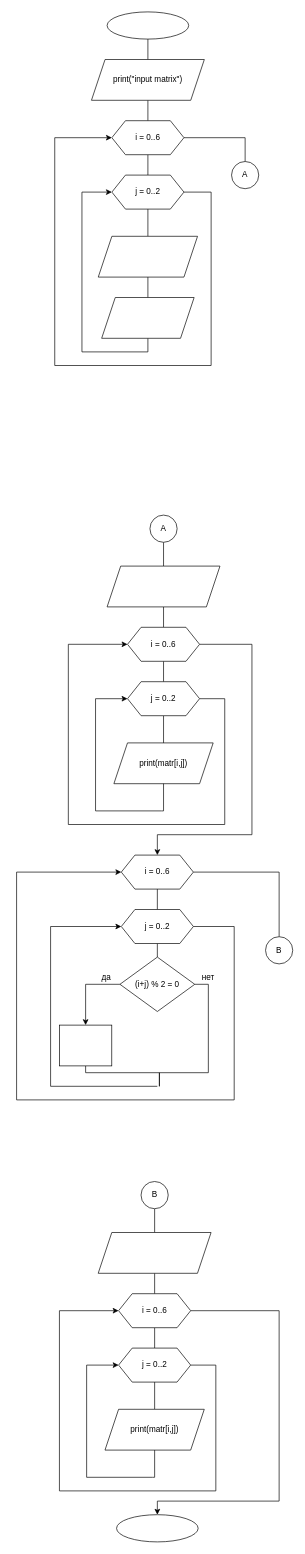
Some shapes in this 305 by 1554 pixel diagram are drawn without their labels. The shapes that lost their labels are listed below. From the top down, each one's centre as x and y in pixels, then its label:
point 147,25: begin
point 148,256: print("input elem:")
point 147,317: input(matr[i,j])
point 163,586: print("echo of input")
point 85,1045: matr[i,j] = 0
point 154,1252: print(Result:")
point 157,1528: end
